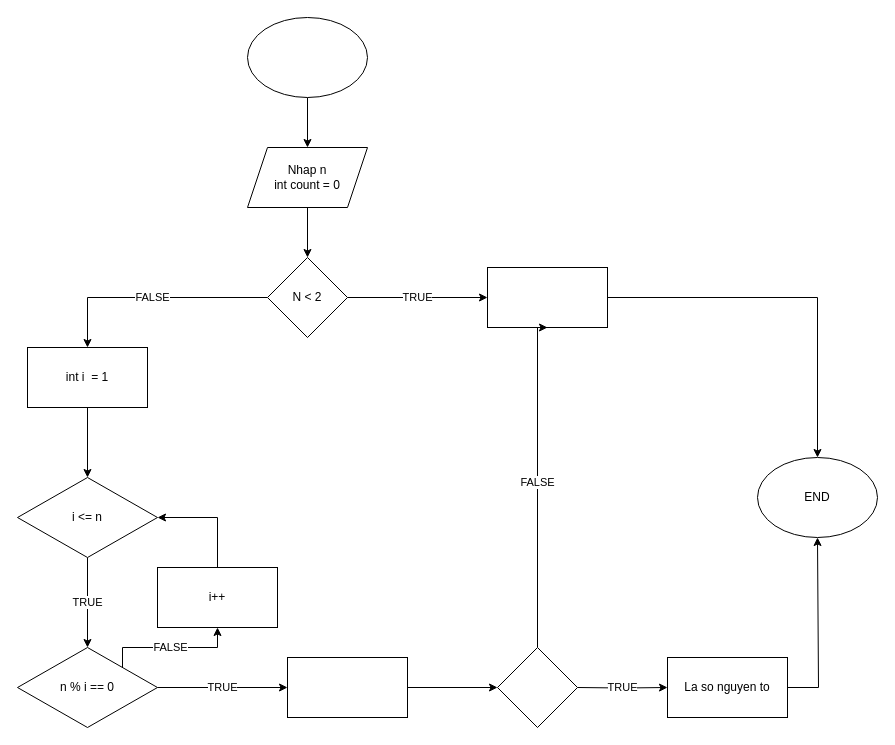
This 895x745 diagram has some shape labels left out. The centre of each missing label's shape, as x and y in pixels:
"count += 1" goes at [347,687].
"count == 2" goes at [537,687].
"Ko phải số nguyên tố" goes at [547,297].
"START" goes at [307,57].
